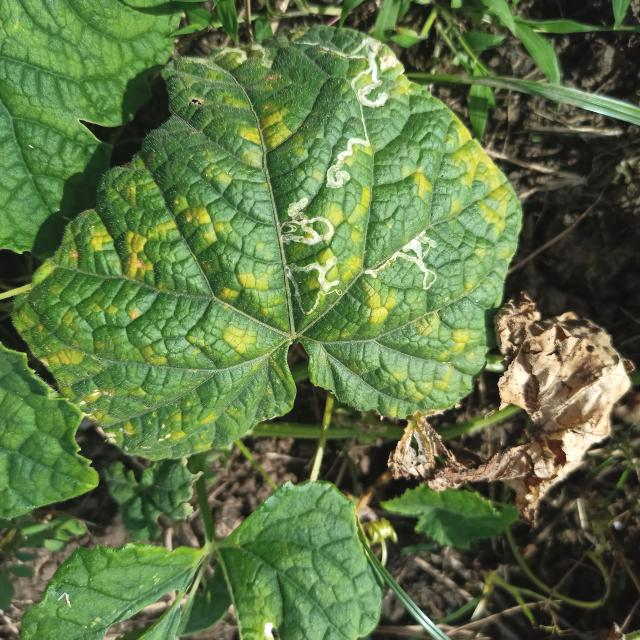disease_cucumber: (40, 37, 512, 464)
